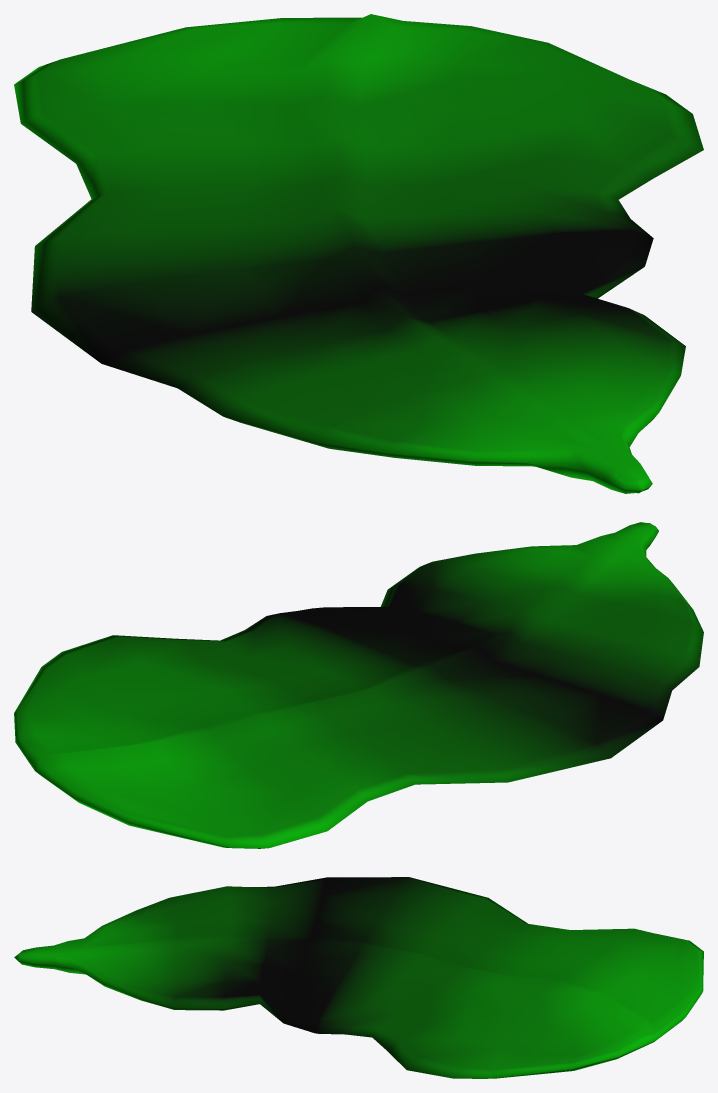
Rendered from Lettuce.fbx.
3 renders of one model, top to bottom at view 1: azimuth 30°, elevation 25°; view 2: azimuth 150°, elevation 25°; view 3: azimuth 270°, elevation 25°, orthographic. The views are drawn at different scales.
Visible parts, largest first — view 1: Lettuce; view 2: Lettuce; view 3: Lettuce.
Boxes of the visible parts, x1,y1,x2,y2 form: Lettuce: (14, 14, 703, 493); Lettuce: (14, 522, 703, 848); Lettuce: (14, 877, 703, 1078).
Bounding box in the file's own units: 168 × 15.13 × 243.
